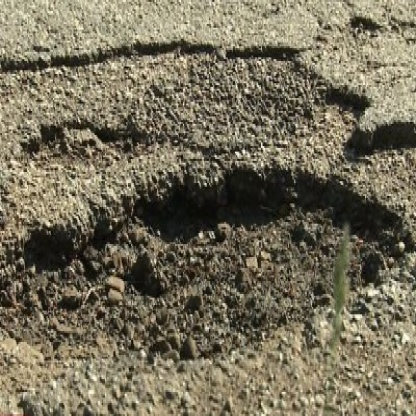pothole: (1, 40, 416, 397)
